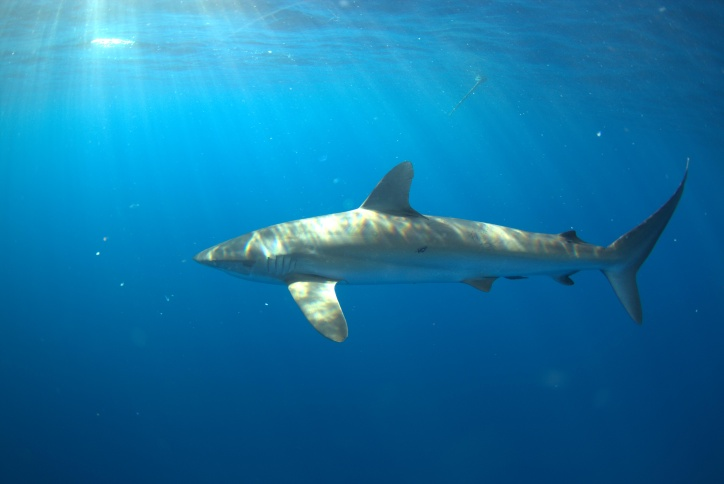Sedoso: (158, 147, 700, 349)
